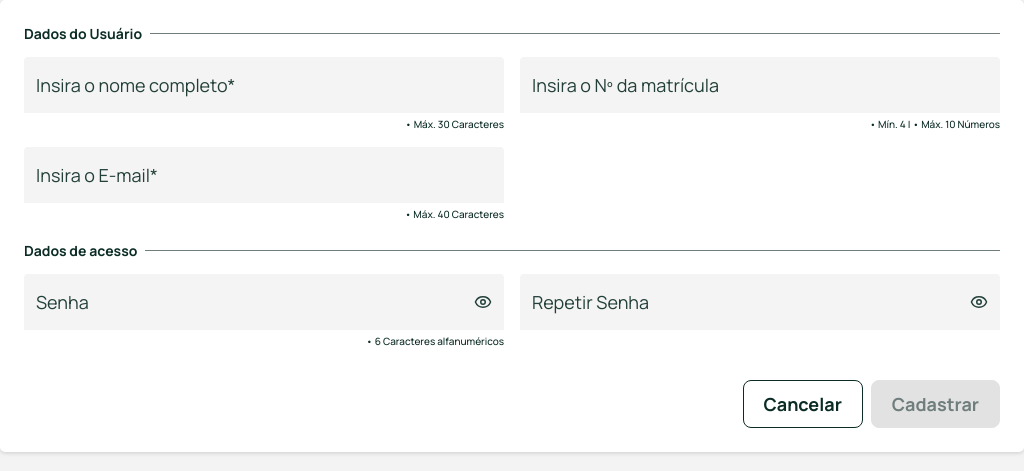
Test case: UserForm — cadastro › descarta tudo que não for dígito na matrícula
Type "ab12c34-5" into the field labelled "Insira o Nº da matrícula".
click(760, 85); type("ab12c34-5")  # box [520,57,1000,113]
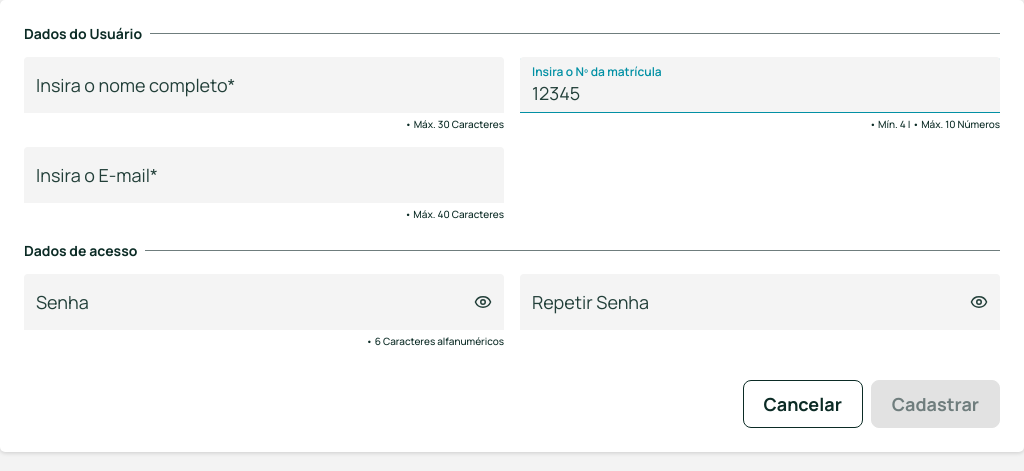
Expected: the field labelled "Insira o Nº da matrícula" holds "12345", [520,57,1000,113]
